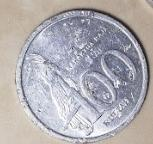coin_100_e1999: (13, 8, 150, 144)
